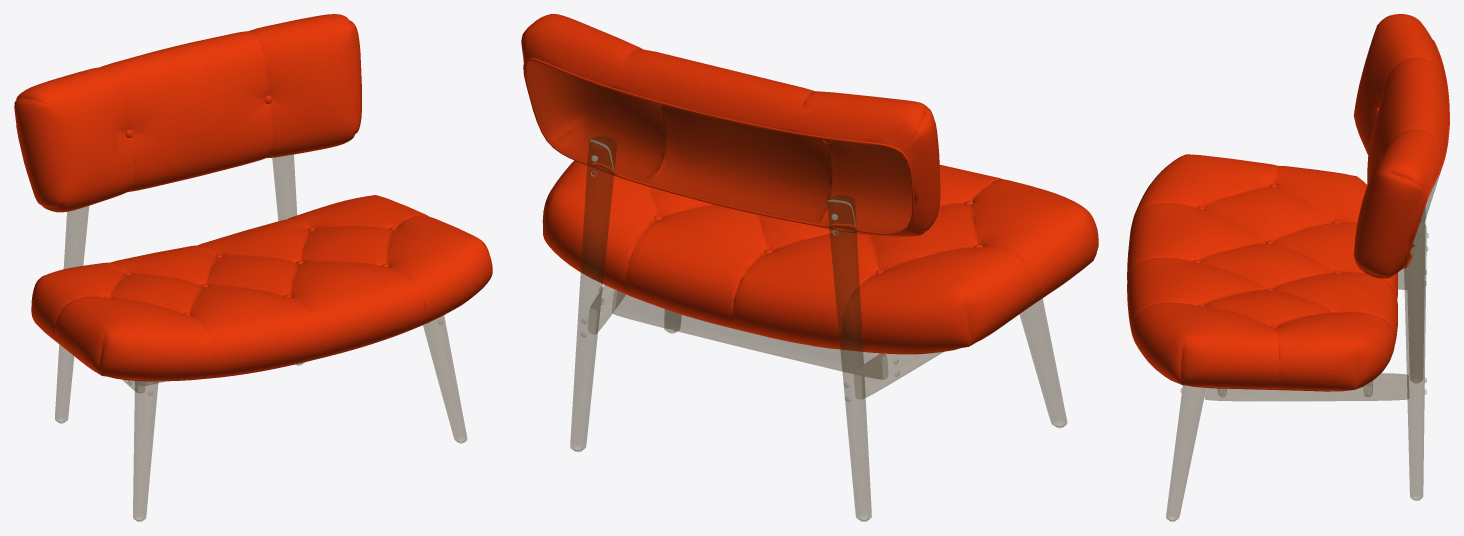
The model's file is armchair-ghost.glb.
The picture shows the model from 3 angles, left to right: view 1: azimuth 30°, elevation 25°; view 2: azimuth 150°, elevation 25°; view 3: azimuth 270°, elevation 25°; orthographic projection. The views are drawn at different scales.
Parts seen in each view (by area): view 1: SheenChair_fabric, SheenChair_wood; view 2: SheenChair_fabric, SheenChair_wood; view 3: SheenChair_fabric, SheenChair_wood.
Boxes of the visible parts, x1,y1,x2,y2 form: SheenChair_fabric: (14, 14, 492, 381); SheenChair_wood: (55, 155, 466, 520); SheenChair_fabric: (521, 14, 1098, 354); SheenChair_wood: (525, 61, 1066, 520); SheenChair_fabric: (1127, 14, 1449, 391); SheenChair_wood: (1166, 172, 1440, 520).
Size of the model in its own units: 0.8266 by 0.6861 by 0.57.
Materials: 4 (3 with a texture image).
